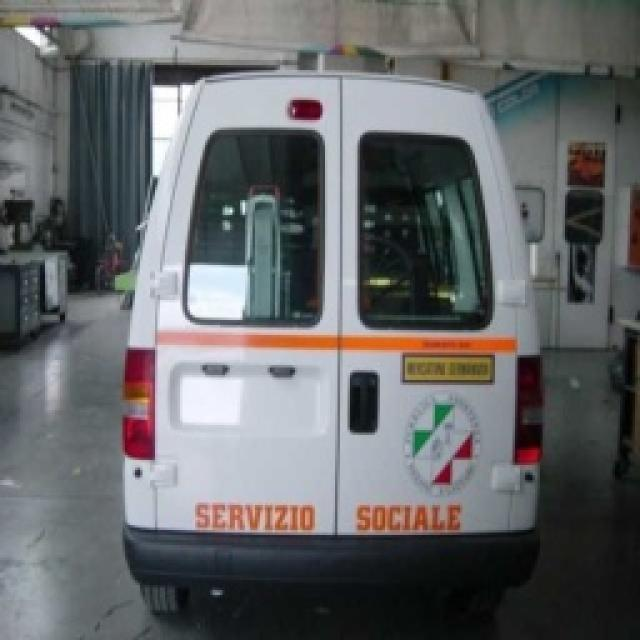emergency-vehicle: (122, 59, 543, 640)
